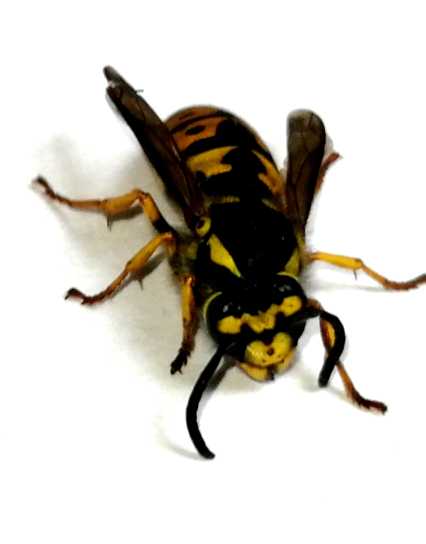chax: (23, 60, 426, 469)
